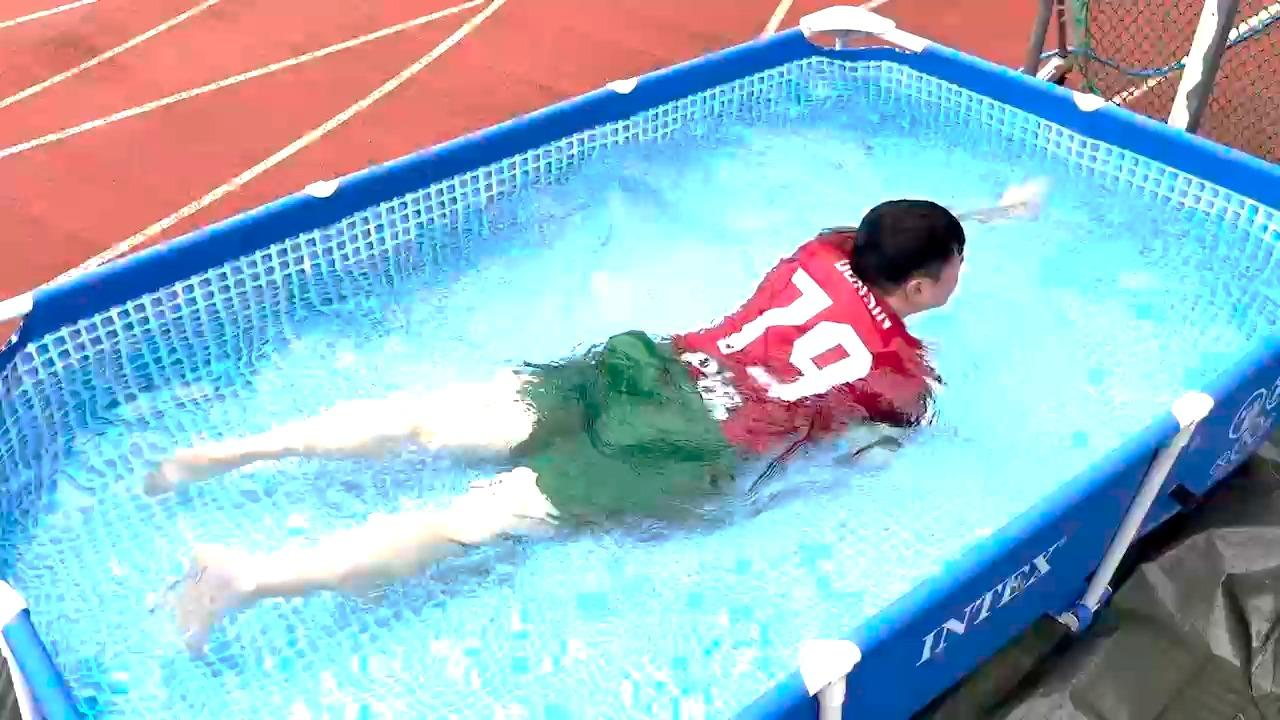Swimming: (125, 132, 1066, 643)
